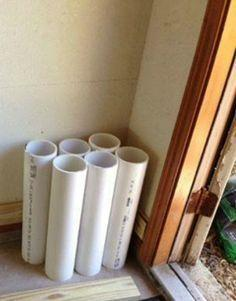PVC: (102, 147, 150, 270), (43, 154, 88, 282), (22, 138, 57, 265), (84, 150, 118, 277)
